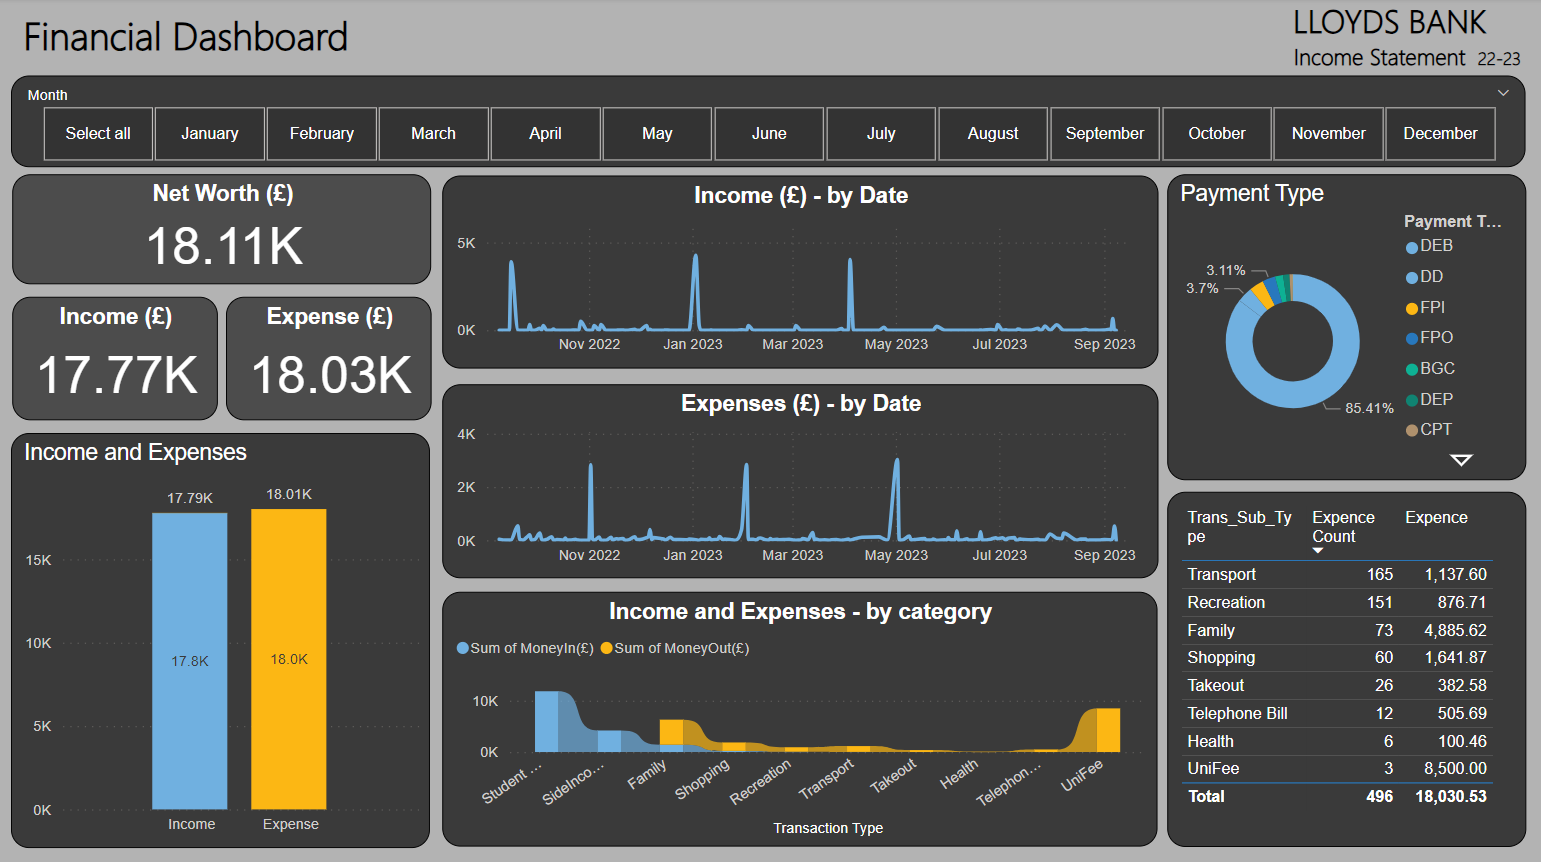

The dashboard page shown, as its layout file describes it:
{"tool":"powerbi","page":{"name":"Page 1","canvas":[1280,720],"ordinal":0},"visuals":[{"type":"slicer","fields":{"Values":["DataSet.Date.Variation.Date Hierarchy.Month"]},"box":[12.5,63.8,1255,76.2],"z":0},{"type":"columnChart","title":"Income and Expenses","fields":{"Category":["DataSet.Trans_Type"],"Y":["Sum(DataSet.MoneyIn(£))","Sum(DataSet.MoneyOut(£))"]},"box":[12.5,360,347.5,343.8],"z":1000},{"type":"donutChart","title":"Payment Type","fields":{"Category":["DataSet.Pmnt_Type"],"Y":["CountNonNull(DataSet.Trans_Type)"]},"box":[970.9,146.5,297.7,253.5],"z":2000},{"type":"card","title":"Income (£)","fields":{"Values":["Sum(DataSet.MoneyIn(£))"]},"box":[13.1,247.9,170,102.4],"z":3000},{"type":"card","title":"Expense (£)","fields":{"Values":["Sum(DataSet.MoneyOut(£))"]},"box":[190.3,247.9,170.5,102.4],"z":4000},{"type":"ribbonChart","title":"Income and Expenses - by category","fields":{"Category":["DataSet.Trans_Sub_Type"],"Y":["Sum(DataSet.MoneyIn(£))","Sum(DataSet.MoneyOut(£))"]},"box":[369.9,492.2,592.5,211.2],"z":5000},{"type":"lineChart","title":"Income (£) - by Date","fields":{"Category":["DataSet.Date"],"Y":["Sum(DataSet.MoneyIn(£))"]},"box":[370,146.7,593.3,160],"z":6000},{"type":"lineChart","title":"Expenses (£) - by Date","fields":{"Category":["DataSet.Date"],"Y":["Sum(DataSet.MoneyOut(£))"]},"box":[370,320,593.3,161.1],"z":7000},{"type":"tableEx","title":"MonthExpences","fields":{"Values":["DataSet.Trans_Sub_Type","DataSet.Expence Count","DataSet.Expence"]},"box":[970.9,409.3,297.7,294.2],"z":8000},{"type":"card","title":"Net Worth (£)","fields":{"Values":["Max(DataSet.Column)"]},"box":[13,146.5,347.5,91.2],"z":9000},{"type":"textbox","box":[17.5,3.8,365,56.2],"z":10000},{"type":"textbox","box":[1045,0,218.8,60],"z":11000}]}

Visuals, with their boxes in screenshot pixels (x1, y1, x2, y2), scaled from the page's 1280x720 canvas onto the 1541x862 screenshot:
slicer - DataSet.Date.Variation.Date Hierarchy.Month: 15 76 1526 168
"Income and Expenses" columnChart: 15 431 433 843
"Payment Type" donutChart: 1169 175 1527 479
"Income (£)" card: 16 297 220 419
"Expense (£)" card: 229 297 434 419
"Income and Expenses - by category" ribbonChart: 445 589 1159 842
"Income (£) - by Date" lineChart: 445 176 1160 367
"Expenses (£) - by Date" lineChart: 445 383 1160 576
"MonthExpences" tableEx: 1169 490 1527 842
"Net Worth (£)" card: 16 175 434 285
textbox: 21 5 460 72
textbox: 1258 0 1521 72
